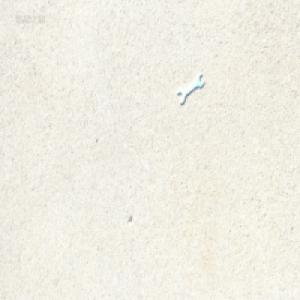Wrench: (175, 72, 202, 104)
